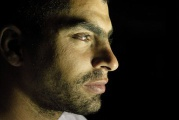male: (52, 12, 120, 113)
